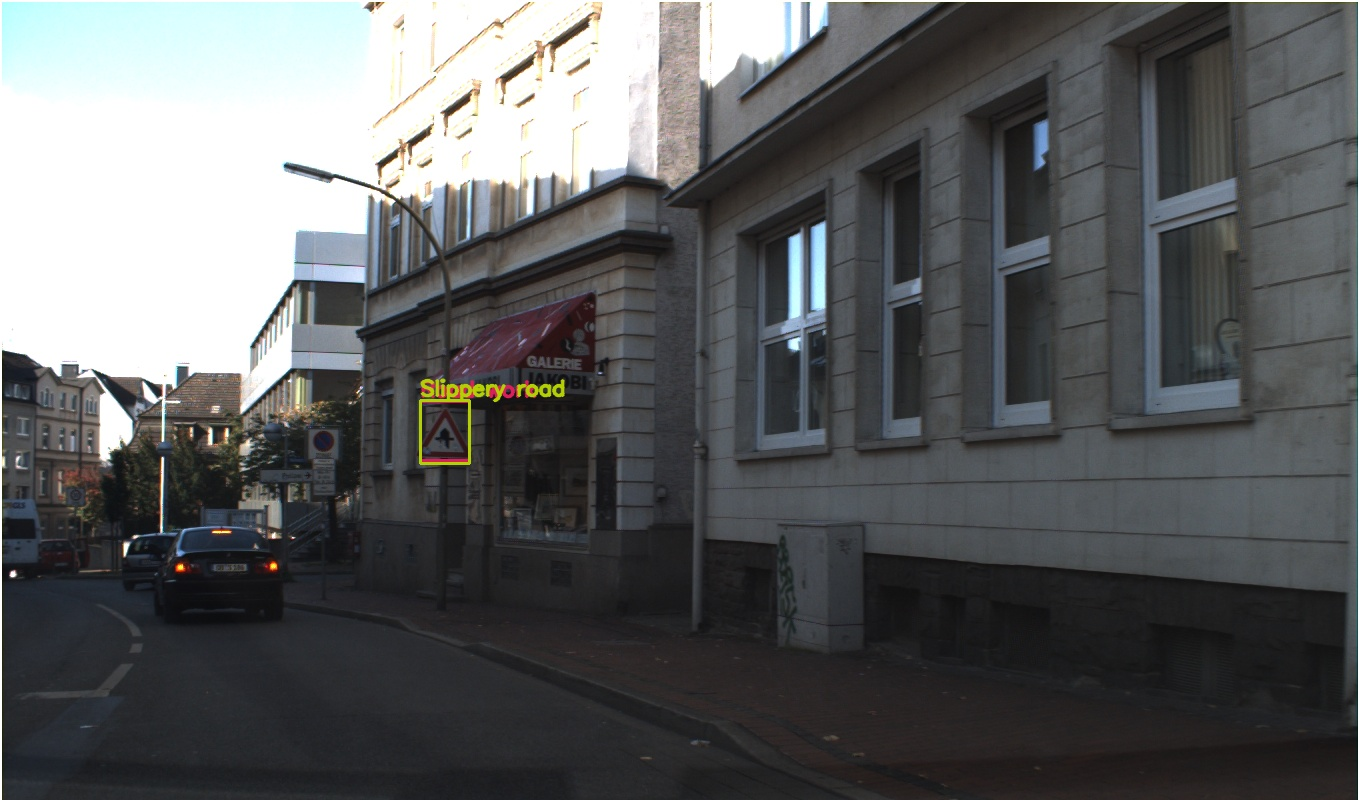No passing: (727, 476, 749, 497), (432, 475, 452, 495)
Slippery road: (425, 428, 456, 455), (723, 431, 752, 457)
Speed limit (50km/h): (430, 453, 452, 475), (727, 457, 748, 477)
